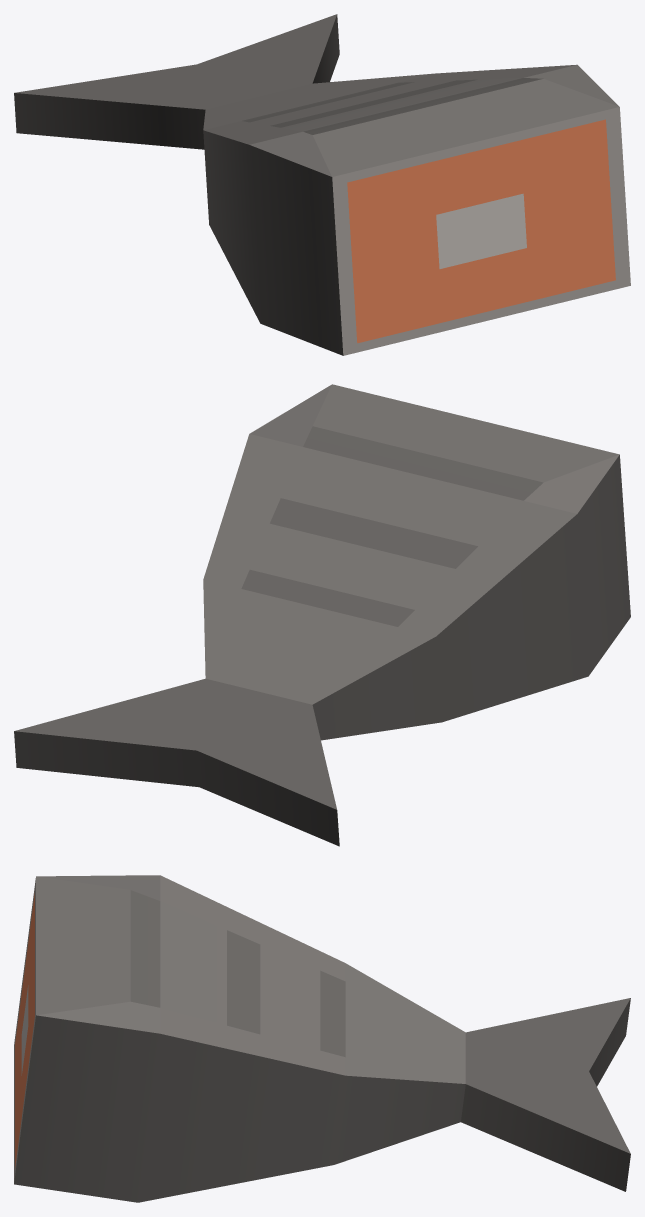
Rendered from SI_Food_Fish_Cooked.fbx.
The picture shows the model from 3 angles, top to bottom: view 1: azimuth 30°, elevation 25°; view 2: azimuth 150°, elevation 25°; view 3: azimuth 270°, elevation 25°; orthographic projection.
Parts seen in each view (by area): view 1: SI_Food_Fish_Cooked; view 2: SI_Food_Fish_Cooked; view 3: SI_Food_Fish_Cooked.
Boxes of the visible parts, left/top/right/bottom form: SI_Food_Fish_Cooked: left=14, top=14, right=630, bottom=355; SI_Food_Fish_Cooked: left=14, top=384, right=630, bottom=846; SI_Food_Fish_Cooked: left=14, top=875, right=630, bottom=1202.
Bounding box in the file's own units: 0.2617 × 0.1368 × 0.4304.
